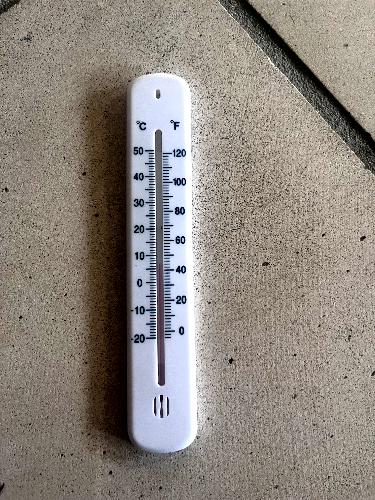thermo: (122, 76, 198, 450)
